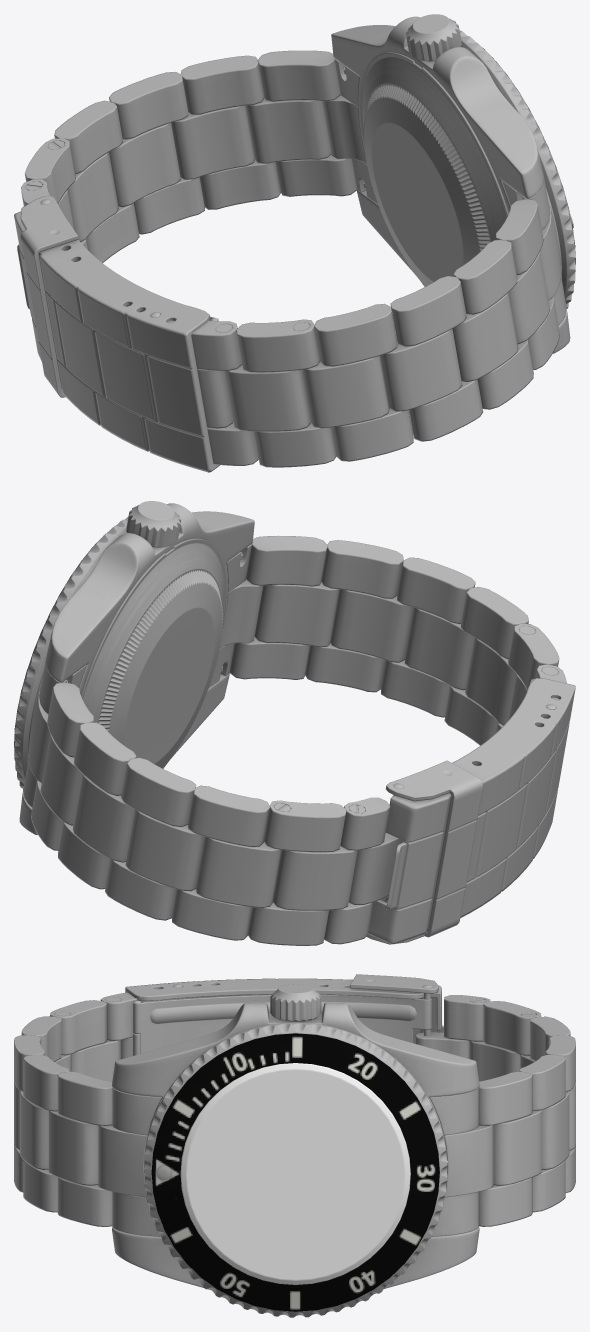
File: watch.glb
The picture shows the model from 3 angles, top to bottom: view 1: azimuth 30°, elevation 25°; view 2: azimuth 150°, elevation 25°; view 3: azimuth 270°, elevation 25°; orthographic projection. The views are drawn at different scales.
Visible parts, largest first — view 1: clock_hands; view 2: clock_hands; view 3: clock_hands, glass.
Boxes of the visible parts, x1=… form: clock_hands: x1=14, y1=14, x2=575, y2=472; clock_hands: x1=14, y1=501, x2=575, y2=945; clock_hands: x1=14, y1=974, x2=575, y2=1317; glass: x1=181, y1=1063, x2=410, y2=1284.
Size of the model in its own units: 7.18 by 4.8 by 8.12.
2 materials, 2 textured.
